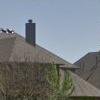Chimney: (19, 15, 47, 49)
